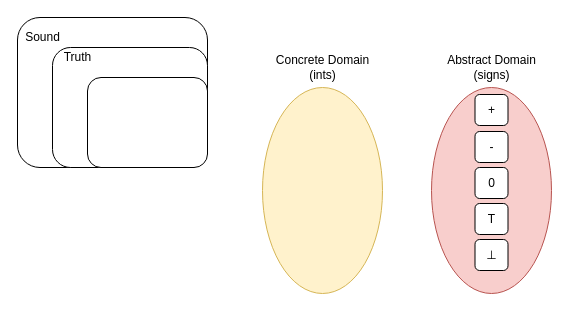
This 569x311 diagram has some shape labels left out. Each missing label, with the centre of its shape:
Complete: pixel 147 122
v = 1000 v= 1 v = -1 v = 0 v = e ? 1 : -1 v = w / 0: pixel 322 190
